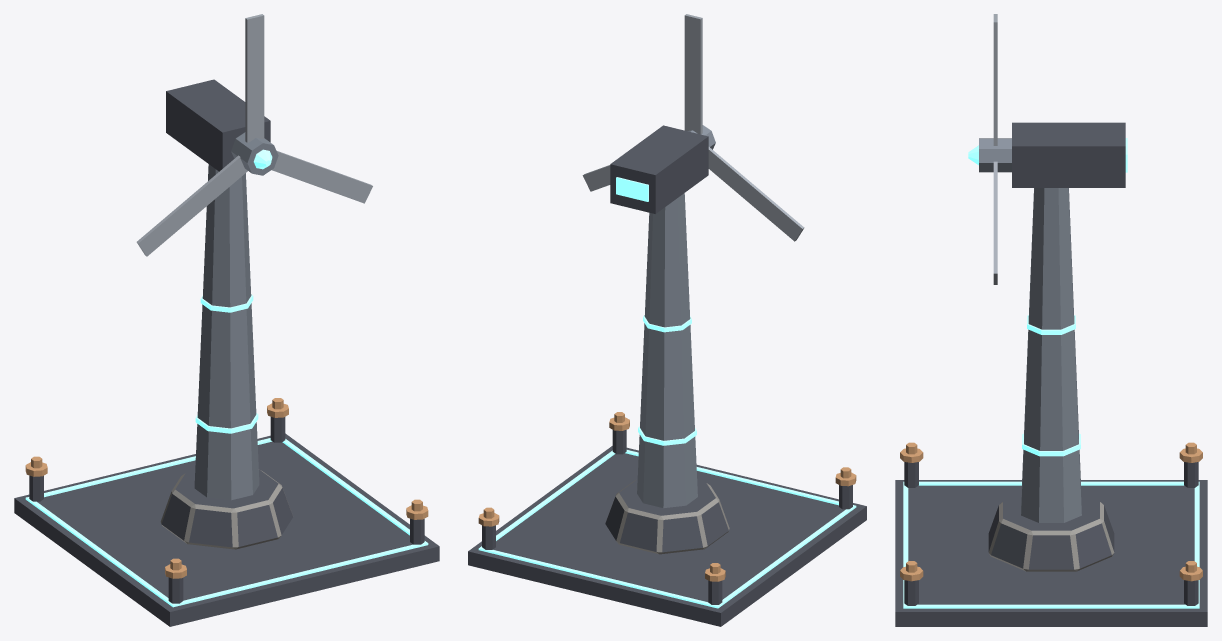
The model's file is turbina_eolica_sem_textura.glb.
3 renders of one model, left to right at view 1: azimuth 30°, elevation 25°; view 2: azimuth 150°, elevation 25°; view 3: azimuth 270°, elevation 25°, orthographic. The views are drawn at different scales.
Visible parts, largest first — view 1: turbina_eolica_corpo, turbina_eolica_helice, turbina_eolica_nacele; view 2: turbina_eolica_corpo, turbina_eolica_nacele, turbina_eolica_helice; view 3: turbina_eolica_corpo, turbina_eolica_nacele, turbina_eolica_helice.
Part boxes in pixels (x1,y1,x2,y2): turbina_eolica_corpo: (14,164,439,626); turbina_eolica_helice: (136,14,372,256); turbina_eolica_nacele: (166,79,270,171); turbina_eolica_corpo: (468,193,866,626); turbina_eolica_nacele: (610,125,708,213); turbina_eolica_helice: (582,14,804,241); turbina_eolica_corpo: (895,188,1207,626); turbina_eolica_nacele: (1012,122,1127,187); turbina_eolica_helice: (968,14,1011,284).
Size of the model in its own units: 1.9 by 3.64 by 1.9.
